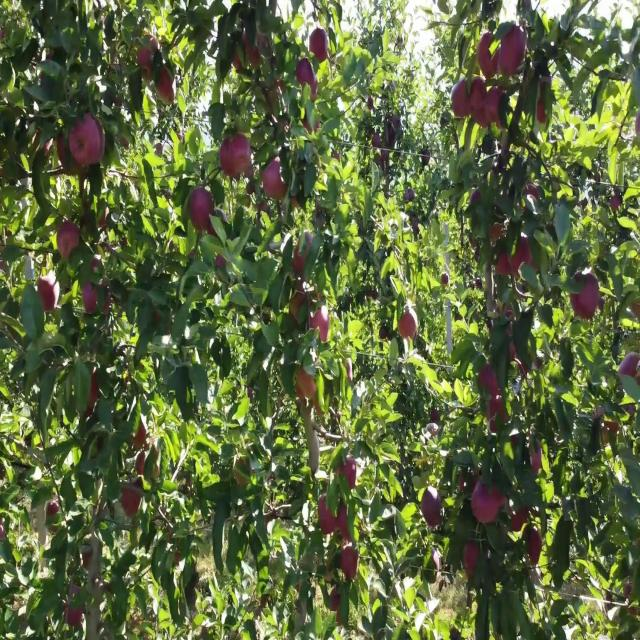apple: (72, 113, 105, 169), (572, 270, 602, 322), (500, 28, 528, 78), (48, 135, 79, 178), (472, 483, 502, 526), (324, 497, 351, 540), (320, 497, 348, 537), (264, 156, 288, 201), (56, 135, 79, 178), (136, 35, 160, 76), (192, 191, 216, 231), (296, 56, 318, 98), (512, 234, 535, 274), (244, 35, 271, 69), (80, 376, 100, 420), (60, 220, 81, 261), (452, 78, 472, 121), (292, 234, 312, 276), (480, 35, 499, 78), (84, 284, 108, 318), (36, 277, 58, 313), (232, 135, 252, 174), (472, 85, 491, 126), (220, 135, 237, 180), (424, 490, 443, 530), (336, 455, 357, 491), (488, 398, 509, 434), (136, 447, 160, 478), (296, 369, 317, 404), (236, 455, 255, 491), (308, 312, 330, 343), (340, 547, 360, 581), (520, 234, 538, 270), (156, 71, 176, 103), (312, 28, 328, 64), (624, 583, 640, 619), (88, 369, 100, 416), (492, 85, 505, 128), (124, 490, 143, 519), (528, 533, 544, 567), (480, 369, 500, 396), (620, 355, 640, 382), (268, 78, 286, 108), (292, 291, 306, 327), (64, 604, 84, 629), (464, 547, 480, 578), (400, 312, 417, 341), (512, 504, 529, 533), (84, 284, 99, 316), (524, 184, 541, 212), (472, 78, 487, 107), (536, 92, 548, 128), (332, 590, 343, 626), (132, 426, 148, 448), (532, 447, 544, 476), (488, 92, 498, 126), (536, 99, 548, 126), (496, 255, 510, 277), (604, 419, 620, 437), (604, 419, 620, 437), (488, 227, 503, 244), (304, 120, 320, 135), (244, 163, 256, 183), (612, 191, 622, 213), (380, 327, 392, 343), (632, 298, 640, 322), (48, 504, 60, 519), (344, 362, 352, 384), (316, 398, 323, 418), (472, 191, 481, 206), (84, 554, 92, 569), (208, 220, 216, 235), (432, 412, 440, 427), (0, 526, 6, 540), (460, 476, 465, 492)
